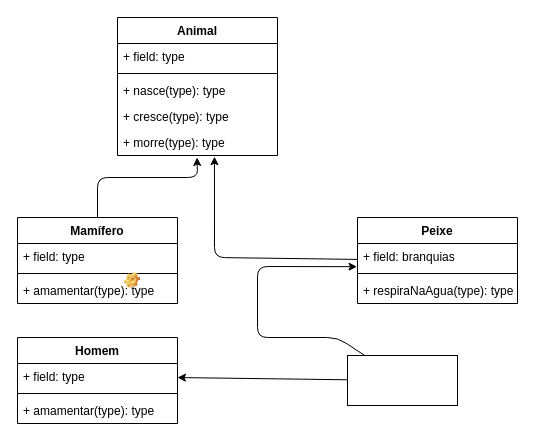
Image size: 535x444. Some labels were removed from this diagram. The shapes that lost their labels are listed below. From the top down, each one's centre as x and y in pixels, then its label:
At (177,280): "item: attribute".
At (402,380): "INTERFACE Nadar".
